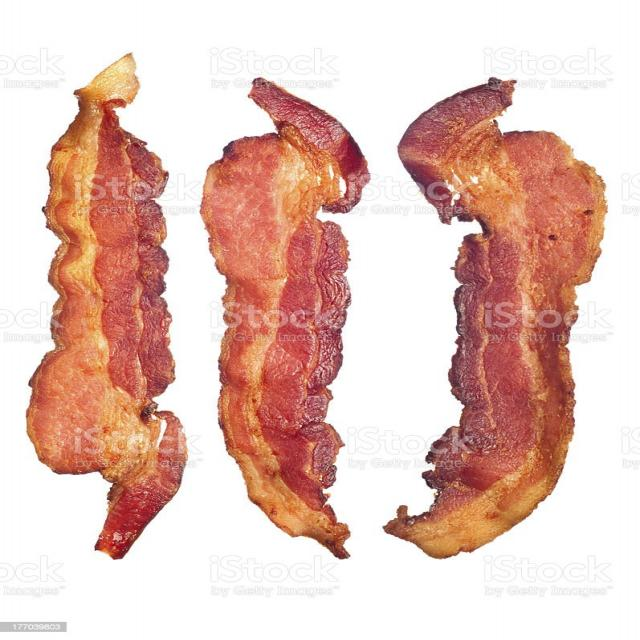bacon: (385, 78, 607, 559), (200, 78, 369, 559), (26, 54, 186, 559)
